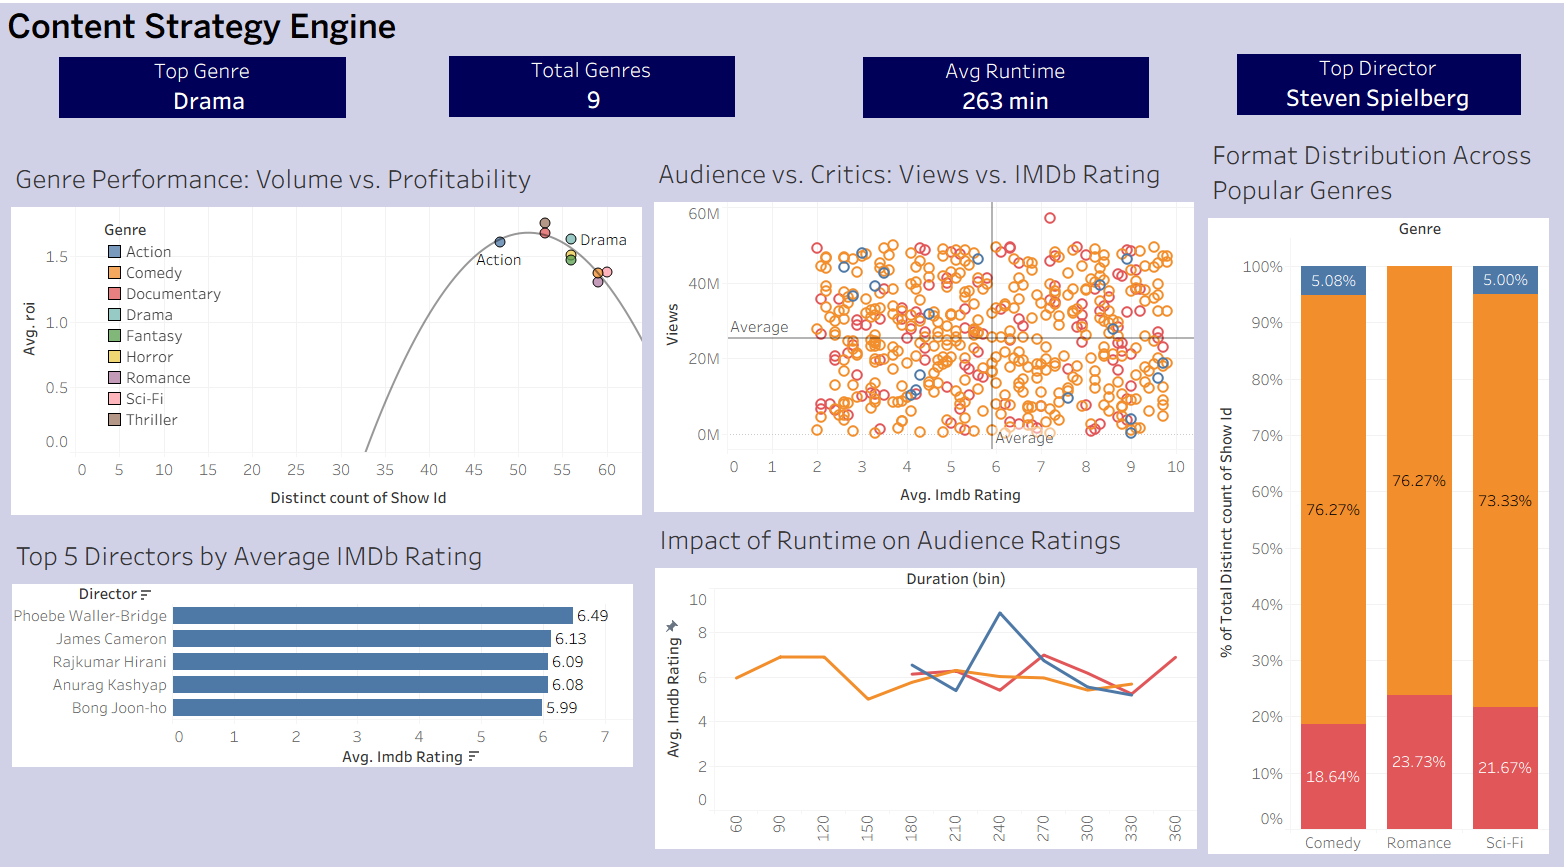

The page's visual inventory and layout, read from the dashboard file:
{"tool":"tableau","page":{"name":"Dashboard 1","canvas":[1000,1000],"units":"permille","ordinal":0},"visuals":[{"type":"title","box":[5.1,9.1,989.9,54.5]},{"type":"worksheet","title":"KPI D1 (3)","mark":"Automatic","box":[550.6,63.8,180.4,69.6]},{"type":"worksheet","title":"KPI D1 (2)","mark":"Automatic","box":[294.3,65,182.9,78.9]},{"type":"worksheet","title":"KPI D1 (4)","mark":"Automatic","box":[789.9,65,181,76.6]},{"type":"worksheet","title":"KPI D1","mark":"Automatic","box":[32.9,66.1,184.8,75.4]},{"type":"worksheet","title":"Ch1 D1","mark":"Bar","rows":["title"],"box":[8.2,170.5,444.3,809.7]},{"type":"worksheet","title":"Ch3 D1","mark":"Automatic","rows":["revenue"],"cols":["budget"],"box":[689.4,215.1,302.3,389.5]},{"type":"worksheet","title":"Ch2 D1","mark":"Circle","rows":["Calculation_1572893648809987","Calculation_1572893648809987"],"box":[454.6,220.9,233.3,384.9]},{"type":"worksheet","title":"Ch4 D1","mark":"Automatic","rows":["revenue"],"cols":["awards"],"box":[454.4,616,267.1,366.6]},{"type":"worksheet","title":"Ch5 D1","mark":"Automatic","rows":["Calculation_1571244050833414","Calculation_1571244051120135"],"cols":["Calculation_1571244049002496"],"box":[726,616,265.2,364.3]},{"type":"legend","title":"Ch1 D1","param":"[federated.0iw49sd0ae2vyw1akmx8d1iqeeq6].[:Measure Names]","box":[337.3,809.7,106.3,75.4]}]}

Visuals, with their boxes on the dashboard's canvas, which has no fixed pixel size, in thousandths of its width and height (x1, y1, x2, y2). These are canvas units, not pixel positions in the 1566x868 screenshot, which may show the page scaled, cropped or inside an application window:
title: BBox(5, 9, 995, 64)
"KPI D1 (3)" worksheet: BBox(551, 64, 731, 133)
"KPI D1 (2)" worksheet: BBox(294, 65, 477, 144)
"KPI D1 (4)" worksheet: BBox(790, 65, 971, 142)
"KPI D1" worksheet: BBox(33, 66, 218, 142)
"Ch1 D1" worksheet (Bar marks): BBox(8, 170, 452, 980)
"Ch3 D1" worksheet: BBox(689, 215, 992, 605)
"Ch2 D1" worksheet (Circle marks): BBox(455, 221, 688, 606)
"Ch4 D1" worksheet: BBox(454, 616, 722, 983)
"Ch5 D1" worksheet: BBox(726, 616, 991, 980)
"Ch1 D1" legend: BBox(337, 810, 444, 885)
